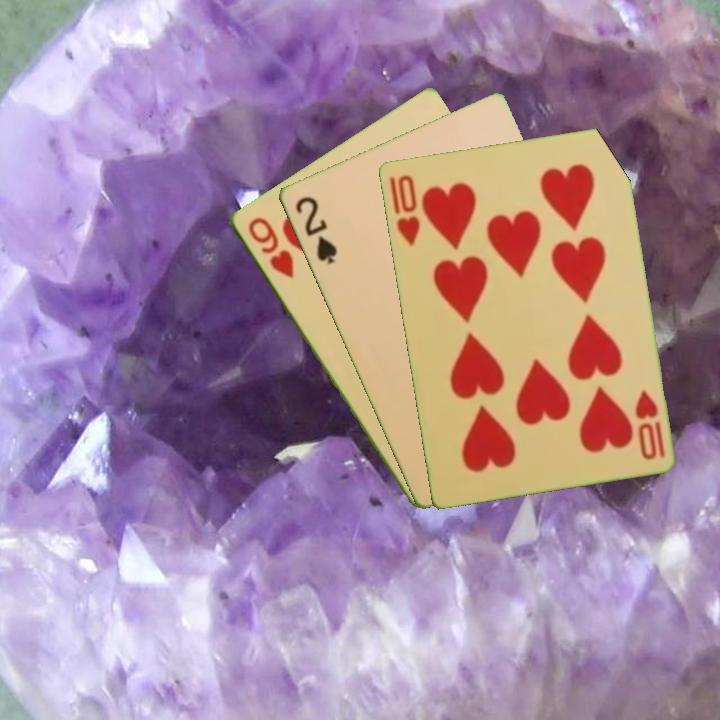10h: (385, 171, 423, 249), (631, 386, 668, 463)
2s: (291, 192, 340, 268)
9h: (243, 213, 297, 281)
